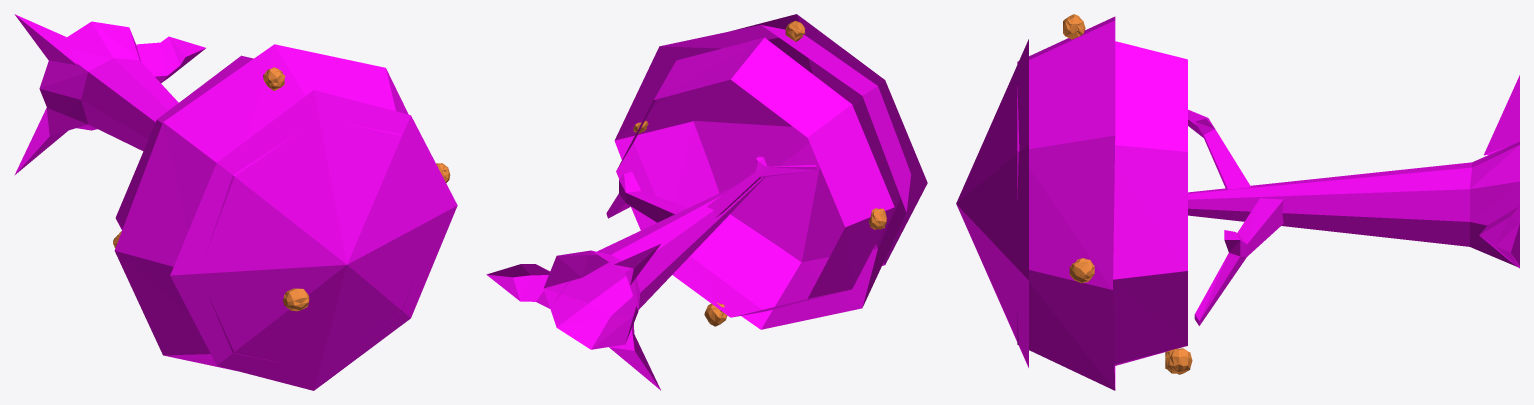
The model's file is 5_mature_full.obj.
The picture shows the model from 3 angles, left to right: view 1: azimuth 30°, elevation 25°; view 2: azimuth 150°, elevation 25°; view 3: azimuth 270°, elevation 25°; orthographic projection. The views are drawn at different scales.
Parts seen in each view (by area): view 1: grapefruittree; view 2: grapefruittree; view 3: grapefruittree.
Part boxes in pixels (box(x1,y1,x2,y2)): grapefruittree: box(14, 14, 457, 390); grapefruittree: box(486, 14, 927, 390); grapefruittree: box(956, 14, 1519, 390).
Size of the model in its own units: 1.79 by 1.78 by 2.48.
